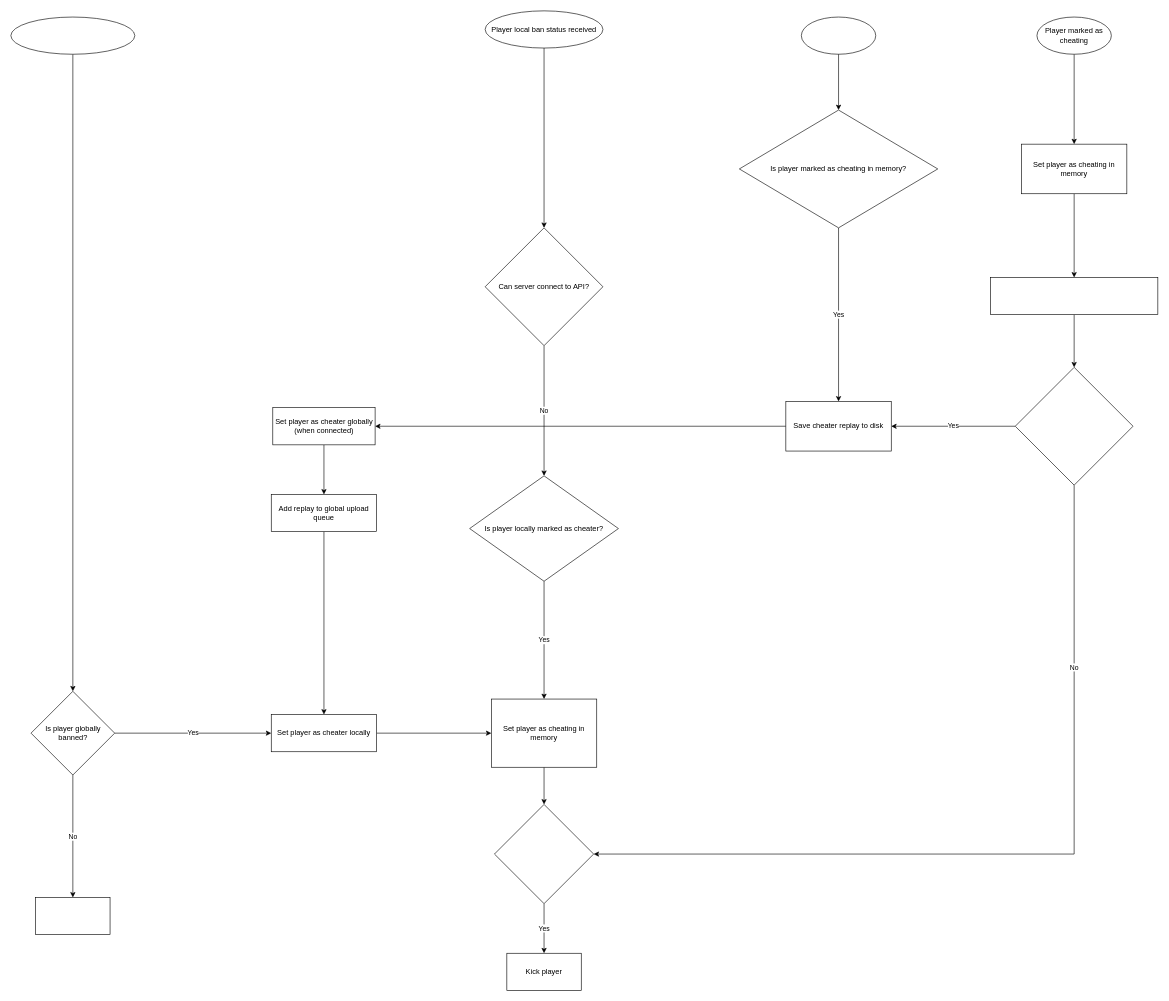
Some shapes in this 1169 by 1001 pixel diagram are drawn without their labels. Here are the shapes that lost their labels. From the top down, the centre of each, then its label:
At (72,35): "Player global ban status received".
At (838,35): "Player SteamID validated".
At (1074,296): "Create cheater replay in memory if necessary".
At (1074,426): "Is player authenticated with Steam?".
At (544,854): "Is autokick enabled?".
At (72,916): "Clear player cheater status locally".
